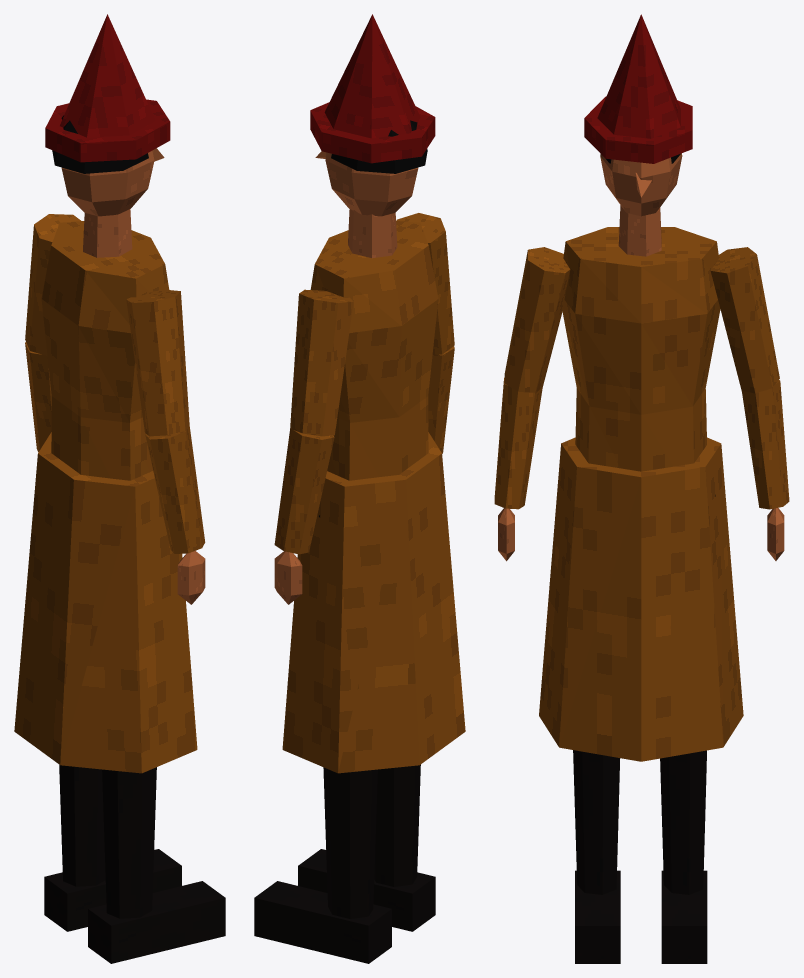
Rendered from pastor.glb.
3 renders of one model, left to right at view 1: azimuth 30°, elevation 25°; view 2: azimuth 150°, elevation 25°; view 3: azimuth 270°, elevation 25°, orthographic.
Parts seen in each view (by area): view 1: faldon, torso, gorro, pierna_der, brazo_der, pie_der, pierna_izq, antebrazo_der, cabeza, pie_izq, brazo_izq, cuello (+3 smaller); view 2: faldon, torso, gorro, pierna_izq, brazo_izq, pie_izq, pierna_der, antebrazo_izq, cabeza, pie_der, brazo_der, cuello (+3 smaller); view 3: faldon, torso, gorro, brazo_izq, brazo_der, pierna_der, pierna_izq, antebrazo_izq, antebrazo_der, pie_izq, pie_der, cabeza (+3 smaller).
Part boxes in pixels (left/top/right/bottom): faldon: left=14, top=432, right=197, bottom=773; torso: left=41, top=221, right=169, bottom=480; gorro: left=45, top=14, right=170, bottom=162; pierna_der: left=102, top=767, right=156, bottom=918; brazo_der: left=126, top=289, right=189, bottom=436; pie_der: left=88, top=881, right=225, bottom=963; pierna_izq: left=59, top=765, right=105, bottom=886; antebrazo_der: left=145, top=426, right=205, bottom=553; cabeza: left=61, top=148, right=164, bottom=216; pie_izq: left=44, top=849, right=181, bottom=931; brazo_izq: left=25, top=214, right=80, bottom=356; cuello: left=83, top=209, right=132, bottom=257; faldon: left=282, top=432, right=465, bottom=773; torso: left=310, top=221, right=438, bottom=480; gorro: left=310, top=14, right=435, bottom=163; pierna_izq: left=323, top=767, right=377, bottom=918; brazo_izq: left=290, top=289, right=353, bottom=436; pie_izq: left=254, top=881, right=391, bottom=963; pierna_der: left=374, top=764, right=420, bottom=886; antebrazo_izq: left=274, top=428, right=334, bottom=554; cabeza: left=315, top=151, right=418, bottom=216; pie_der: left=298, top=849, right=435, bottom=931; brazo_der: left=396, top=213, right=454, bottom=354; cuello: left=348, top=209, right=397, bottom=258; faldon: left=539, top=437, right=743, bottom=761; torso: left=562, top=227, right=720, bottom=471; gorro: left=584, top=14, right=692, bottom=163; brazo_izq: left=710, top=247, right=779, bottom=393; brazo_der: left=504, top=247, right=570, bottom=392; pierna_der: left=573, top=750, right=619, bottom=894; pierna_izq: left=660, top=750, right=706, bottom=894; antebrazo_izq: left=742, top=380, right=789, bottom=509; antebrazo_der: left=494, top=377, right=542, bottom=509; pie_izq: left=661, top=870, right=707, bottom=963; pie_der: left=575, top=870, right=620, bottom=963; cabeza: left=600, top=153, right=682, bottom=216.
Bounding box in the file's own units: 0.3 × 1.7 × 0.5.
1 material, 1 textured.
